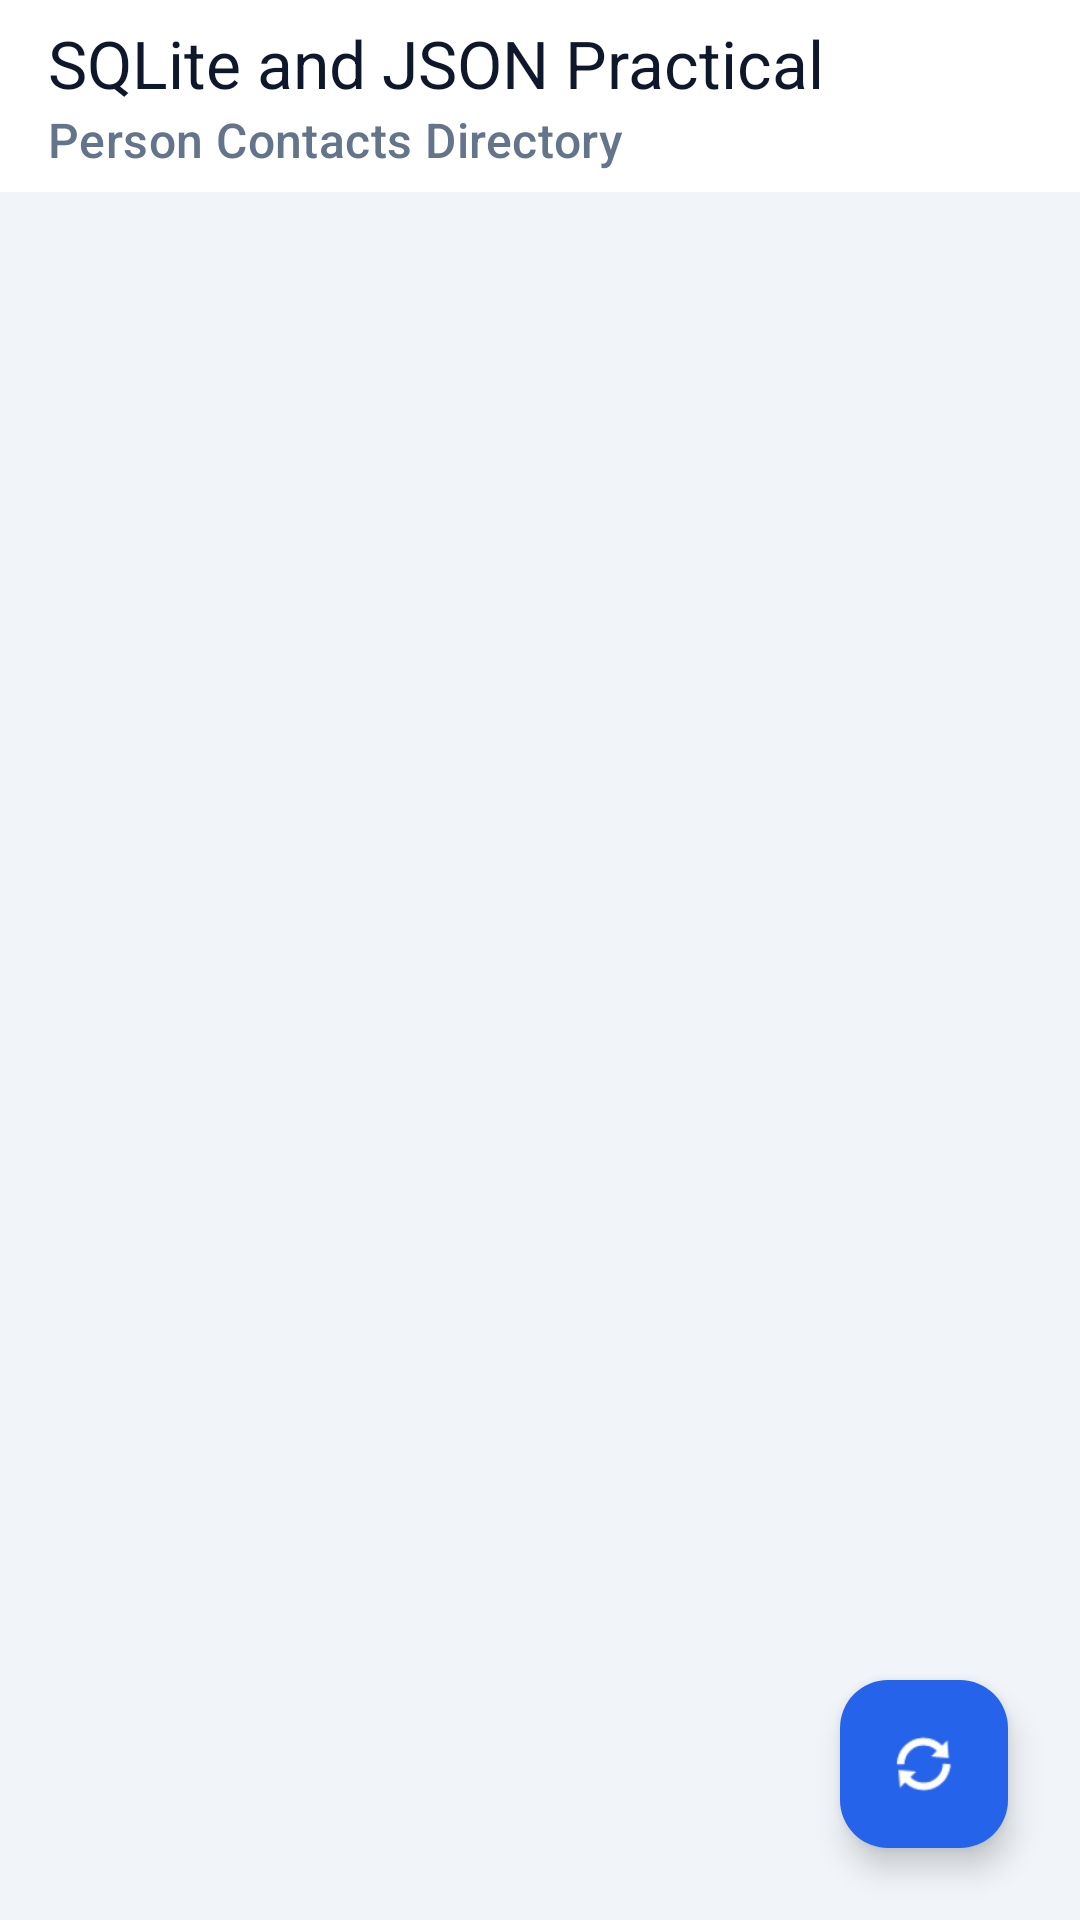

Named icons in this screenshot (1080*1920) and their bounding boxes, (x1, y1, x2, y2):
Refresh and Download from API: (840, 1680, 1008, 1848)
